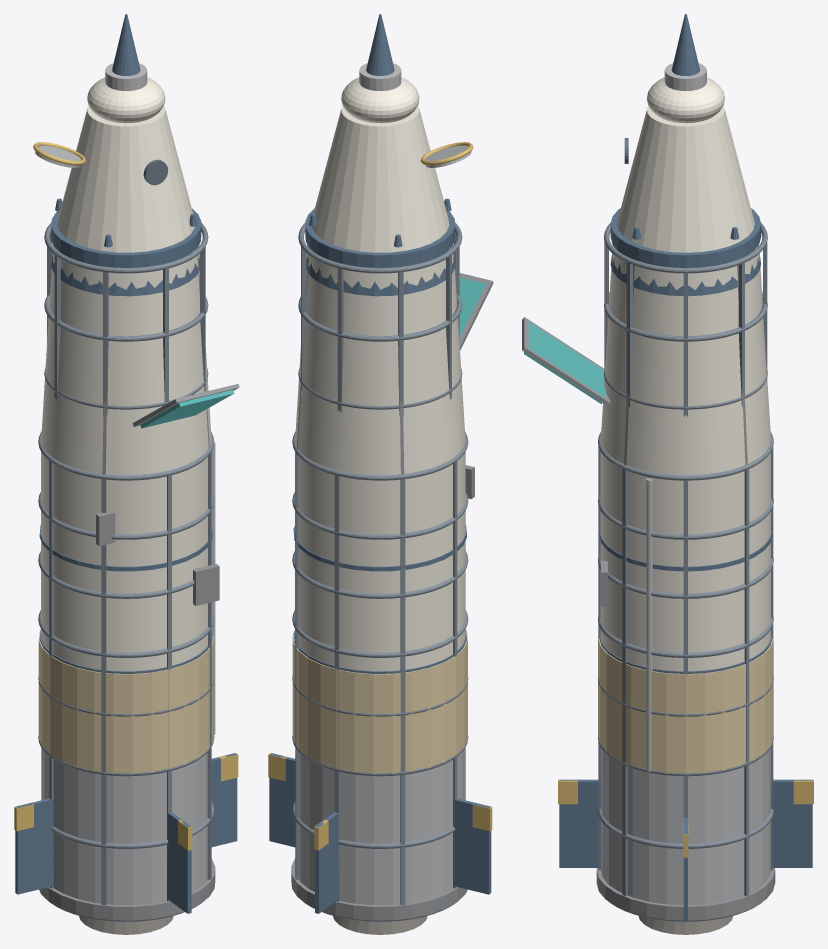
Rendered from rocket.glb.
3 views of the same model, side by side, from view 1: azimuth 30°, elevation 25°; view 2: azimuth 150°, elevation 25°; view 3: azimuth 270°, elevation 25° (orthographic).
Visible parts, largest first — view 1: Propulsion, BodyLowerInsul, Skin_Upper_P1, Skin_Lower_P1, Capsule, Skin_Upper_P4, Skin_Lower_P4, Fin.002, CapsuleBase, PropSkirt, CapsuleDome, Fin (+35 smaller); view 2: Skin_Upper_P3, Skin_Lower_P3, Propulsion, BodyLowerInsul, Capsule, Skin_Upper_P4, Skin_Lower_P4, Fin.002, CapsuleBase, PropSkirt, CapsuleDome, Fin (+32 smaller); view 3: Skin_Upper_P2, Propulsion, Skin_Lower_P2, BodyLowerInsul, Capsule, Skin_Upper_P3, Skin_Upper_P1, Skin_Lower_P3, Skin_Lower_P1, Fin.003, Fin.001, PropSkirt (+27 smaller).
Part boxes in pixels (x1,y1,x2,y2): Propulsion: (41, 748, 207, 905); BodyLowerInsul: (38, 631, 213, 773); Skin_Upper_P1: (105, 249, 208, 475); Skin_Lower_P1: (106, 457, 207, 671); Capsule: (57, 105, 194, 252); Skin_Upper_P4: (41, 244, 103, 473); Skin_Lower_P4: (41, 452, 101, 669); Fin.002: (15, 798, 53, 894); CapsuleBase: (51, 208, 201, 267); PropSkirt: (39, 859, 215, 920); CapsuleDome: (87, 77, 165, 123); Fin: (211, 753, 237, 847); Skin_Upper_P3: (298, 249, 400, 475); Skin_Lower_P3: (298, 457, 400, 671); Propulsion: (299, 748, 465, 905); BodyLowerInsul: (292, 630, 467, 773); Capsule: (312, 105, 449, 252); Skin_Upper_P4: (403, 244, 465, 473); Skin_Lower_P4: (405, 452, 465, 669); Fin.002: (453, 798, 491, 894); CapsuleBase: (305, 208, 455, 267); PropSkirt: (291, 858, 467, 920); CapsuleDome: (341, 77, 419, 123); Fin: (269, 753, 295, 847); Skin_Upper_P2: (626, 266, 745, 475); Propulsion: (601, 748, 770, 905); Skin_Lower_P2: (627, 471, 744, 671); BodyLowerInsul: (598, 637, 773, 773); Capsule: (616, 106, 754, 252); Skin_Upper_P3: (745, 245, 770, 463); Skin_Upper_P1: (600, 245, 626, 463); Skin_Lower_P3: (749, 452, 770, 658); Skin_Lower_P1: (600, 452, 622, 658); Fin.003: (559, 779, 600, 867); Fin.001: (771, 779, 812, 867); PropSkirt: (596, 868, 775, 920).
Bounding box in the file's own units: 5.1 × 19.81 × 5.81.
